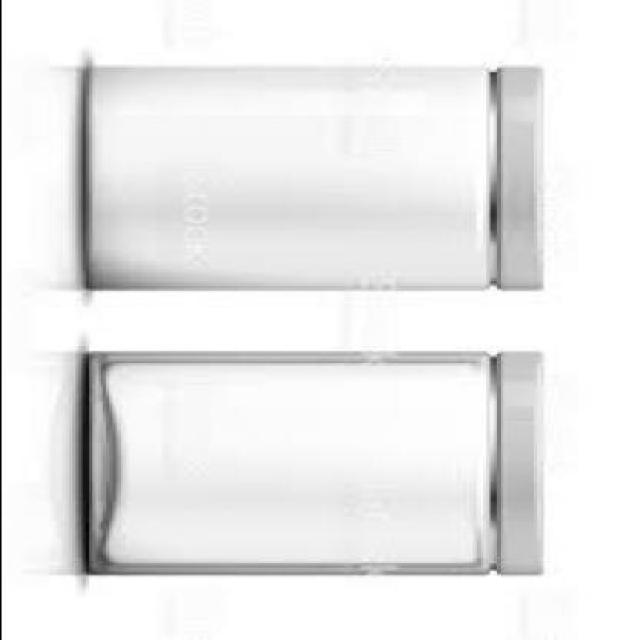glass: (85, 346, 500, 572), (88, 63, 495, 288)
metal: (498, 349, 550, 571), (496, 63, 546, 288)
